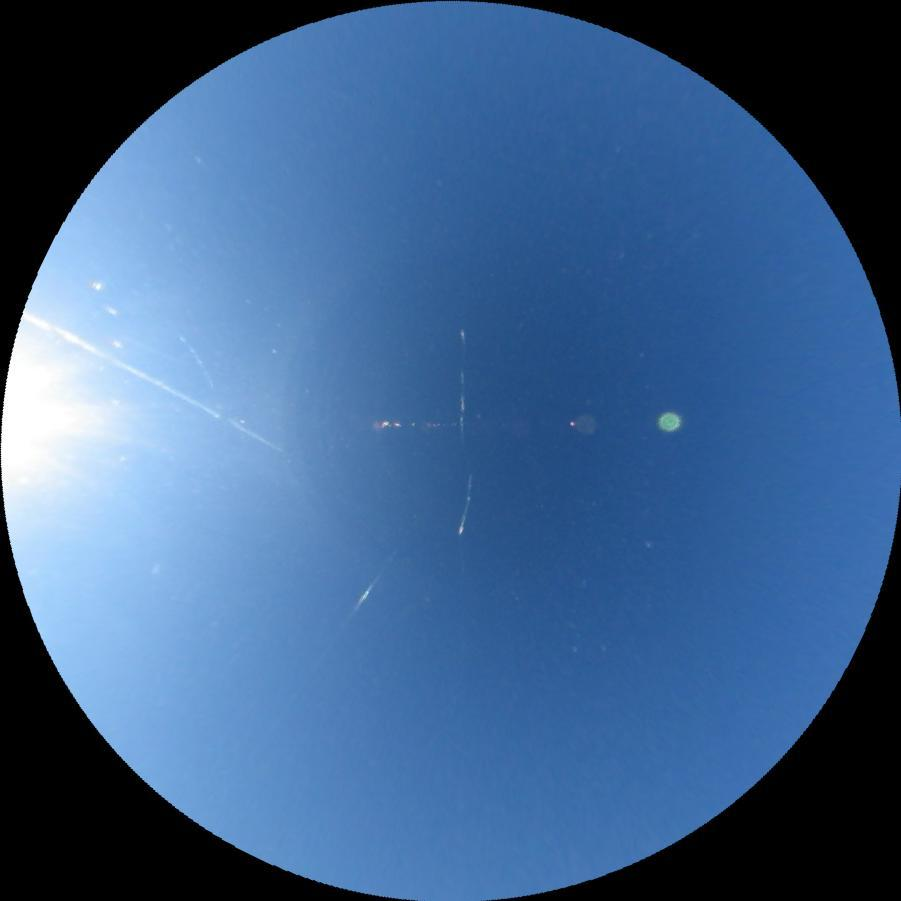parasite: (20, 308, 286, 454), (178, 332, 217, 389), (347, 570, 382, 617), (455, 473, 476, 536), (458, 327, 466, 444)
sun: (0, 348, 71, 490)
